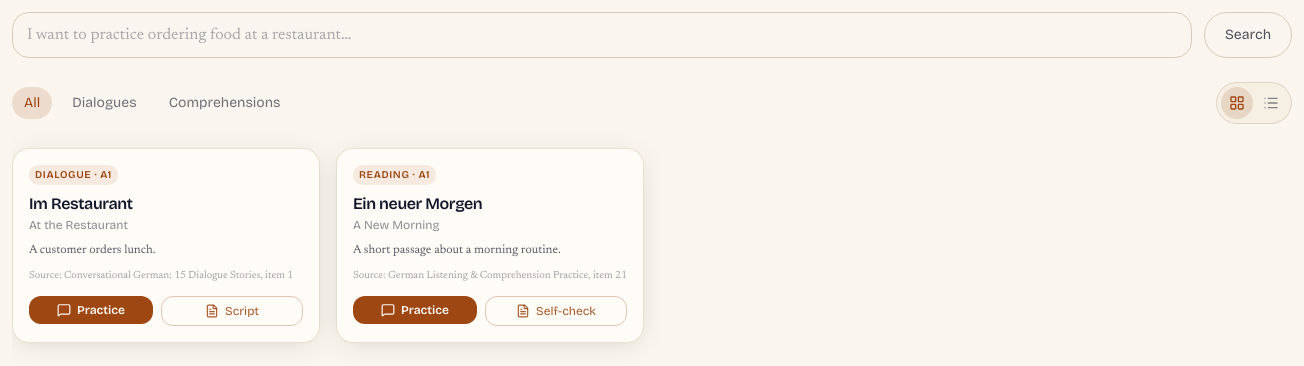
Test case: the layout toggle › drops the descriptions in the list, which is what makes it dense
The image size is (1304, 366).
Click the button named "List view": x=1271, y=103 [1255,87,1287,119]
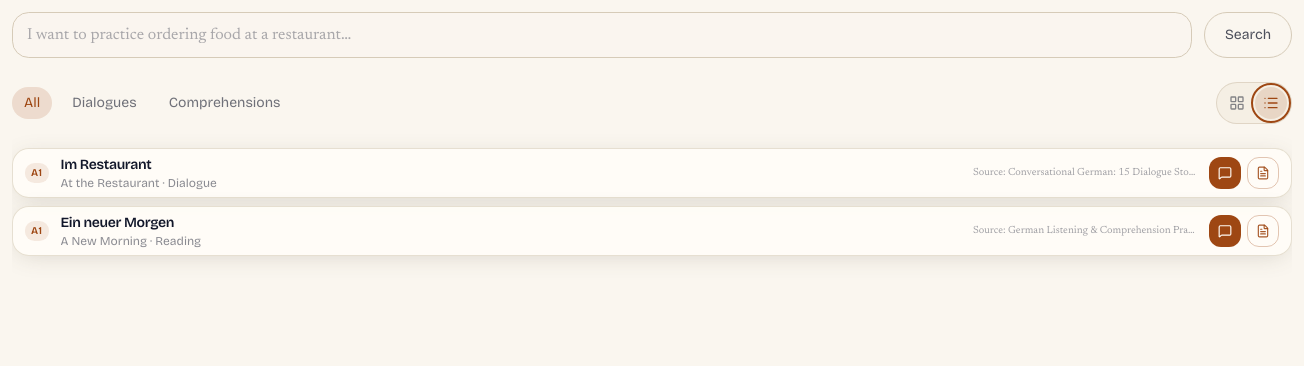
Expected: the link "Im Restaurant" is shown, [61,156,151,173]
Now the text "A customer orders lunch." is gone
